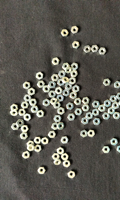nut: (22, 151, 30, 160), (68, 171, 76, 179), (38, 167, 46, 175), (52, 153, 60, 161), (27, 144, 35, 152), (34, 137, 42, 145), (49, 131, 57, 139), (54, 115, 62, 123), (93, 118, 101, 126), (86, 112, 94, 120), (108, 107, 116, 115), (104, 100, 112, 108), (110, 95, 118, 103), (37, 110, 45, 118), (55, 87, 63, 95), (28, 88, 36, 96), (23, 82, 31, 90), (36, 72, 44, 80), (51, 74, 59, 82), (71, 70, 79, 78), (71, 26, 79, 34), (16, 120, 25, 127), (11, 124, 20, 131), (53, 102, 62, 109), (103, 147, 111, 154), (111, 138, 118, 146), (54, 159, 62, 166), (57, 148, 65, 155), (88, 130, 95, 138), (81, 130, 88, 138), (61, 137, 69, 144), (35, 145, 42, 153), (20, 133, 28, 140), (21, 126, 29, 133), (57, 123, 65, 130), (52, 123, 59, 131), (82, 117, 89, 125), (93, 109, 100, 117), (103, 113, 111, 120), (113, 112, 120, 120), (68, 114, 76, 121), (24, 114, 31, 122), (82, 105, 90, 112), (83, 97, 90, 105), (113, 102, 120, 110), (103, 79, 111, 86), (75, 109, 83, 116), (75, 98, 82, 106), (19, 109, 26, 117), (10, 109, 18, 116), (31, 106, 39, 113), (21, 102, 29, 109), (29, 99, 37, 106), (24, 95, 32, 102), (50, 98, 58, 105), (43, 99, 50, 107), (57, 95, 65, 102), (63, 89, 70, 97), (73, 85, 80, 93), (66, 83, 73, 91), (43, 86, 51, 93), (37, 81, 45, 88), (49, 81, 56, 89), (57, 79, 65, 86), (69, 77, 76, 85), (62, 77, 70, 84), (62, 63, 70, 70), (72, 63, 79, 71), (52, 58, 60, 65), (99, 48, 107, 55), (92, 45, 99, 53), (84, 46, 92, 53), (73, 41, 80, 49), (61, 30, 69, 37), (64, 161, 71, 168), (62, 154, 69, 161), (27, 141, 34, 148), (42, 138, 49, 145), (93, 101, 100, 108), (99, 105, 106, 112), (58, 108, 65, 115), (67, 103, 74, 110), (11, 104, 18, 111), (70, 92, 77, 99), (49, 91, 56, 98), (59, 71, 66, 78), (65, 67, 72, 74), (115, 81, 120, 89), (117, 146, 120, 153), (117, 93, 120, 100), (119, 100, 120, 107)
